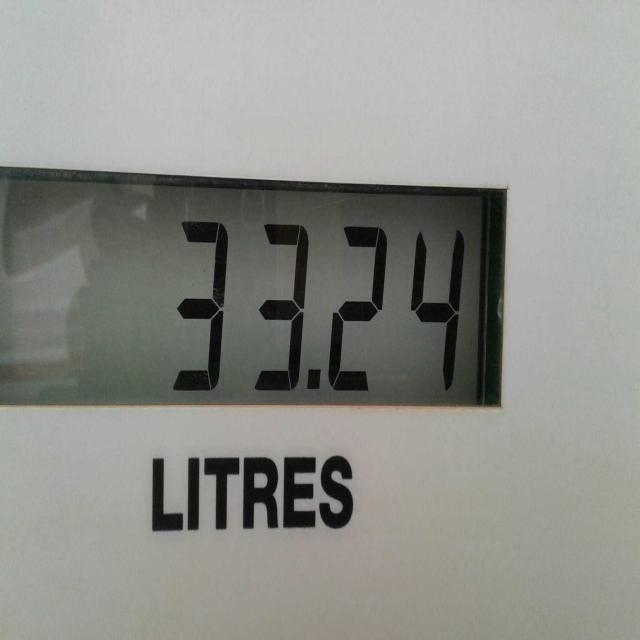.: (304, 350, 324, 402)
2: (323, 208, 384, 398)
3: (164, 207, 234, 401), (243, 206, 304, 406)
4: (392, 214, 472, 396)
